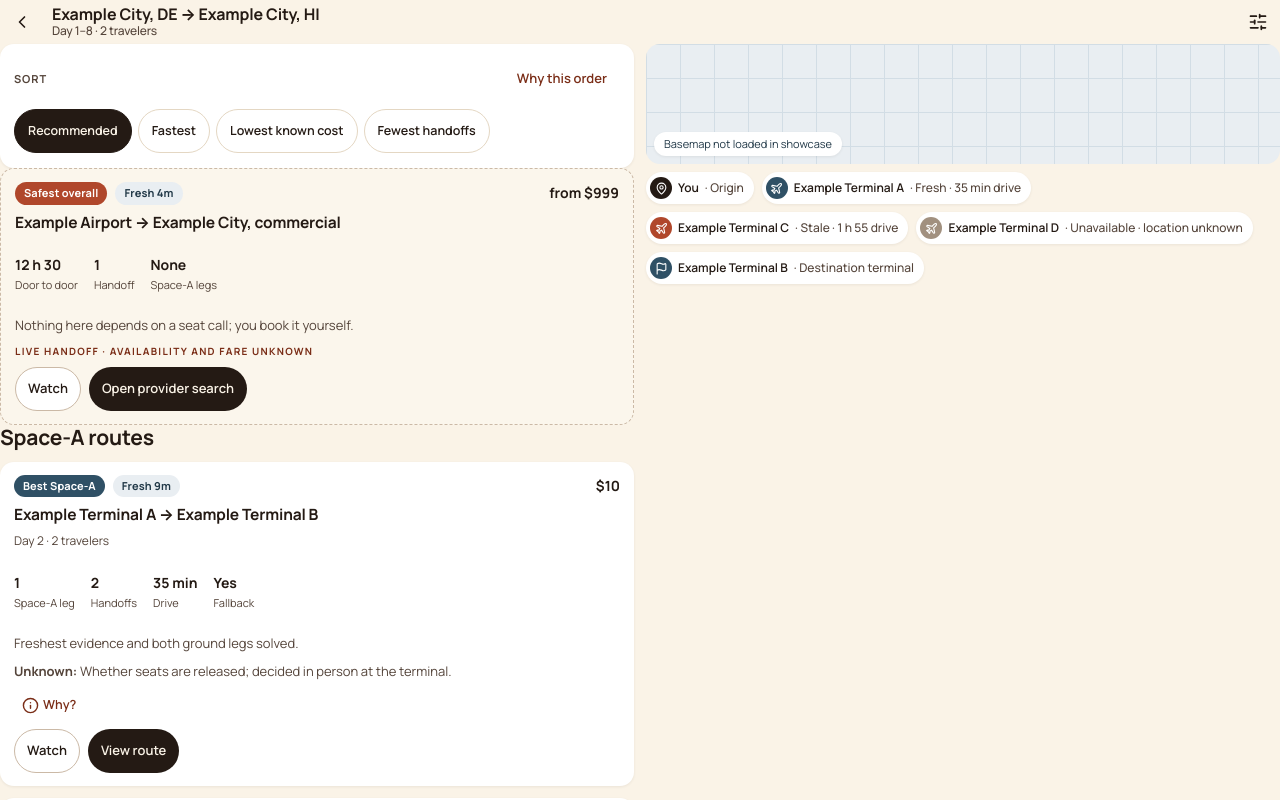
Scenario: Why this order › renders the note the model supplies, not wording invented here
Step 1. Click the button "Why this order" → (562, 79), box [504, 57, 620, 101]
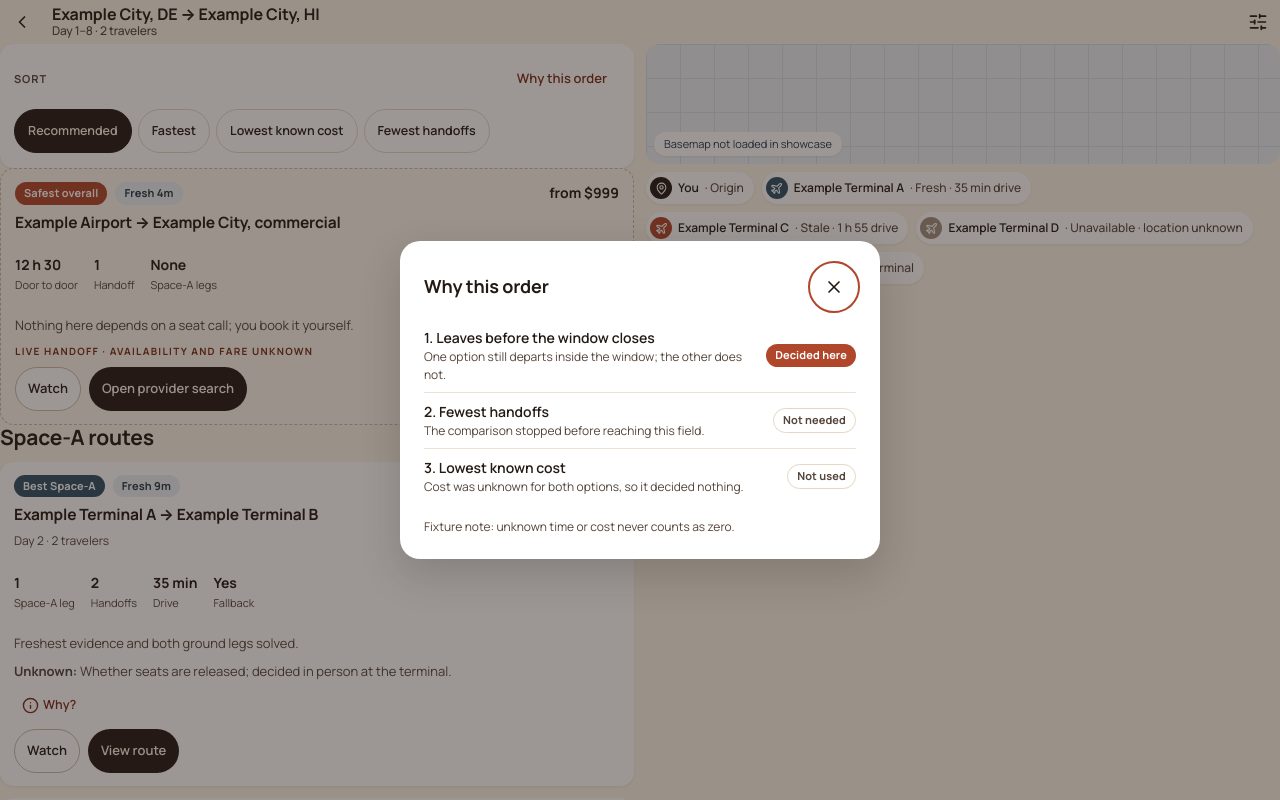
Check: the text "Fixture note: unknown time or cost never counts as zero." is shown, box [424, 518, 734, 535]
